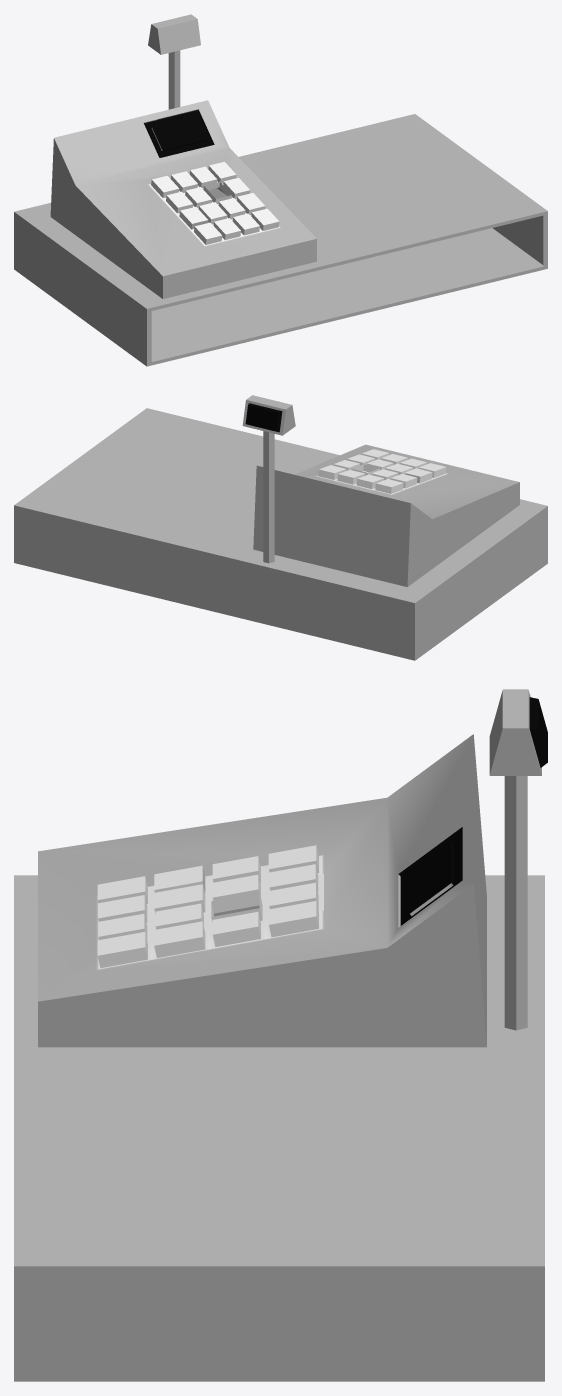
Rendered from static.glb.
3 renders of one model, top to bottom at view 1: azimuth 30°, elevation 25°; view 2: azimuth 150°, elevation 25°; view 3: azimuth 270°, elevation 25°, orthographic. The views are drawn at different scales.
Visible parts, largest first — view 1: Cashier; view 2: Cashier; view 3: Cashier.
Boxes of the visible parts, x1,y1,x2,y2 form: Cashier: (14, 14, 547, 366); Cashier: (14, 395, 547, 660); Cashier: (14, 689, 547, 1381).
Bounding box in the file's own units: 1.34 × 0.6871 × 0.7716.
1 material, 1 textured.
